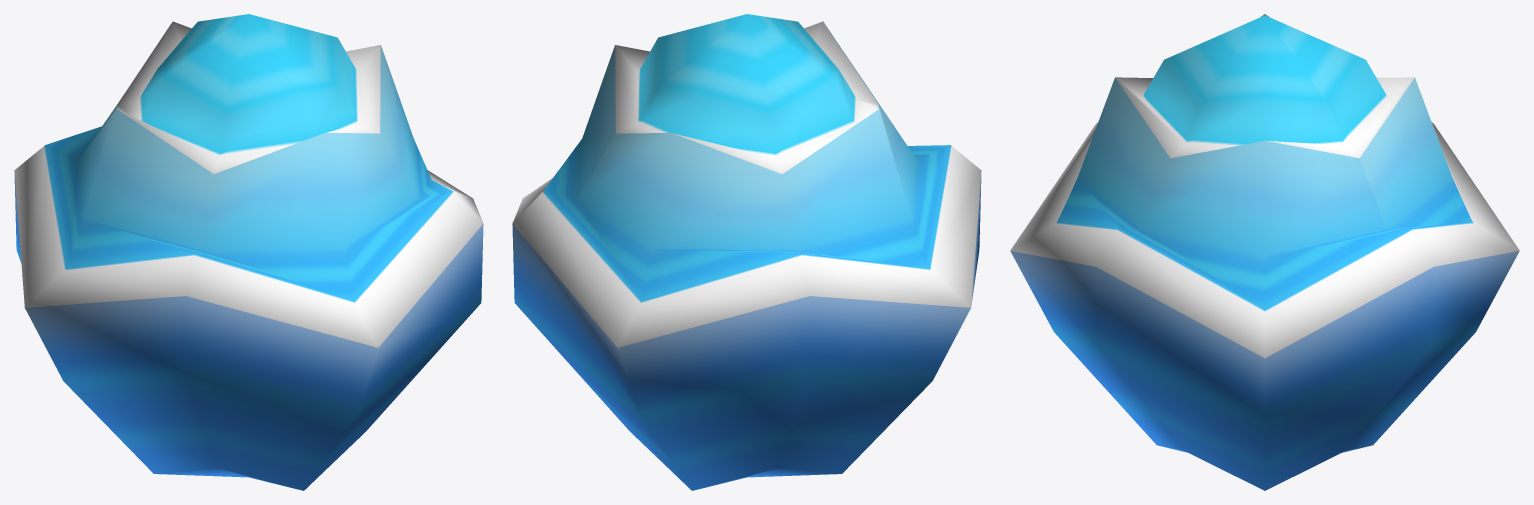
Rendered from ToadProjectile_MESH.fbx.
3 renders of one model, left to right at view 1: azimuth 30°, elevation 25°; view 2: azimuth 150°, elevation 25°; view 3: azimuth 270°, elevation 25°, orthographic.
Parts seen in each view (by area): view 1: pSphere4; view 2: pSphere4; view 3: pSphere4.
Part boxes in pixels (bbox=[...]): pSphere4: bbox=[14, 14, 483, 490]; pSphere4: bbox=[512, 14, 981, 490]; pSphere4: bbox=[1010, 14, 1519, 490].
Size of the model in its own units: 7.29 by 7.2 by 7.29.
